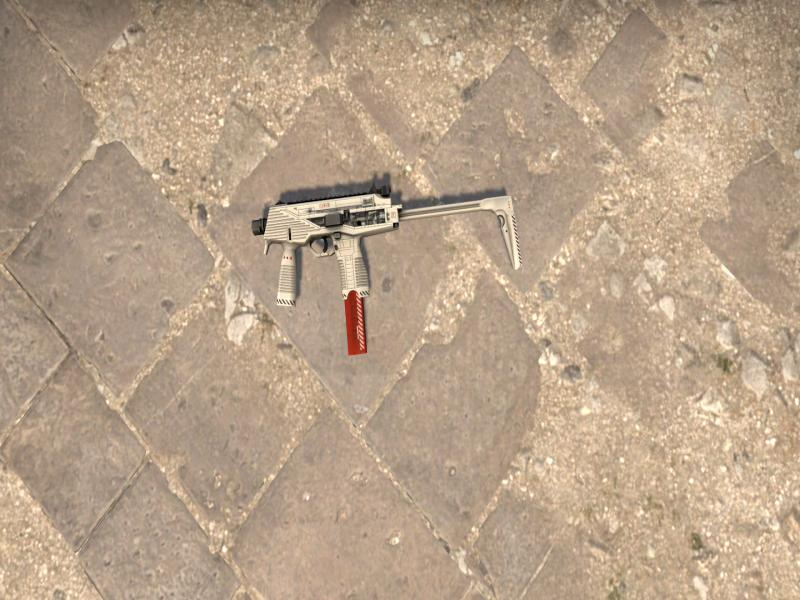MP9: (253, 185, 522, 354)
